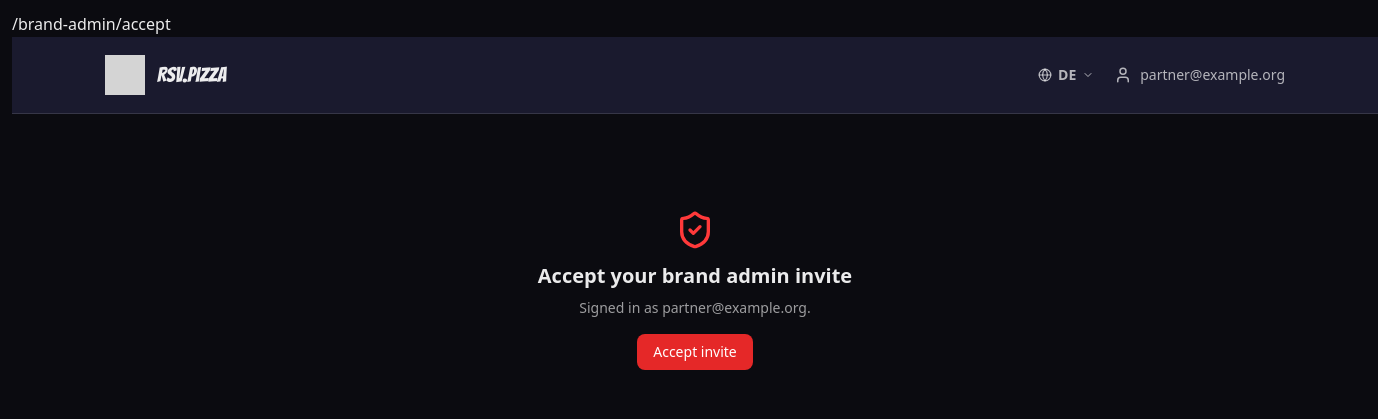
Test: BrandAdminAcceptPage › shows the server error (e.g. wrong email) and keeps the token for a retry
The width and height of the screenshot is (1378, 419).
Click the button "Accept invite" at (695,352), box x1=637 y1=334 x2=753 y2=370
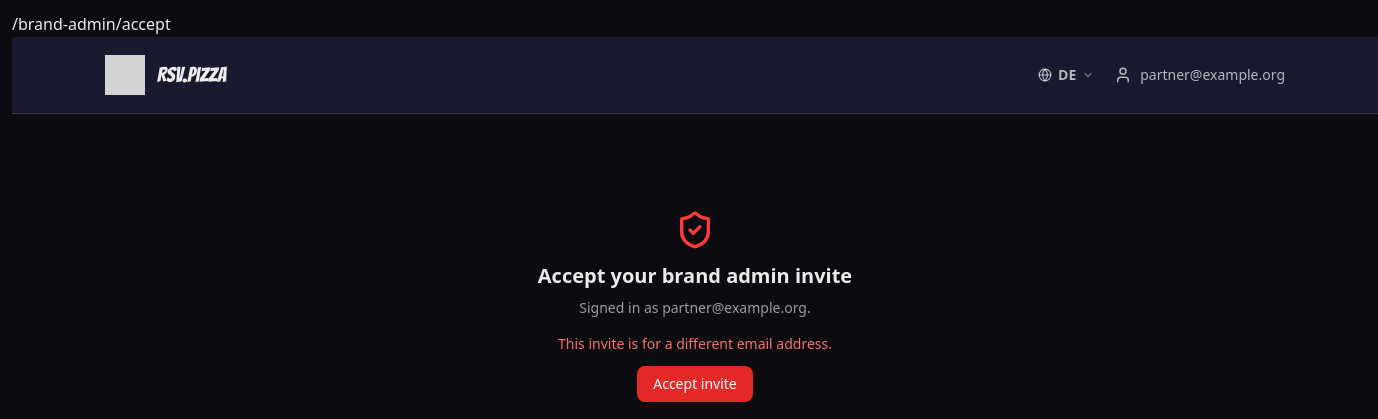
Result: the text "This invite is for a different email address." is shown at x1=558 y1=334 x2=832 y2=354
